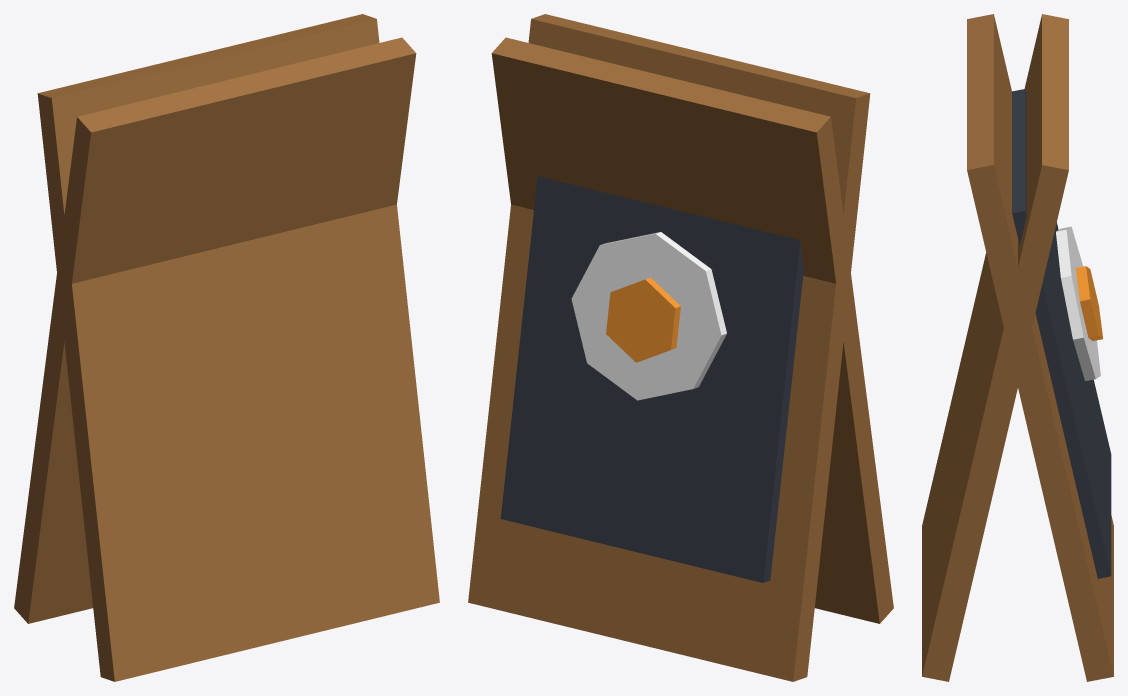
The model's file is cavalete_pf.glb.
The picture shows the model from 3 angles, left to right: view 1: azimuth 30°, elevation 25°; view 2: azimuth 150°, elevation 25°; view 3: azimuth 270°, elevation 25°; orthographic projection. The views are drawn at different scales.
Visible parts, largest first — view 1: corpo; view 2: corpo; view 3: corpo.
Part boxes in pixels (x1=…): corpo: x1=14, y1=14, x2=439, y2=681; corpo: x1=468, y1=14, x2=893, y2=681; corpo: x1=922, y1=14, x2=1113, y2=681.
Size of the model in its own units: 0.26 by 0.415 by 0.1396.
